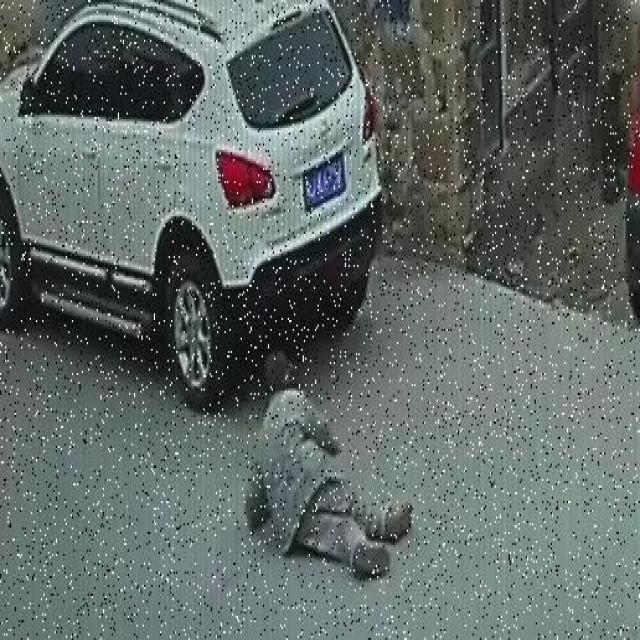fall: (252, 356, 400, 584)
